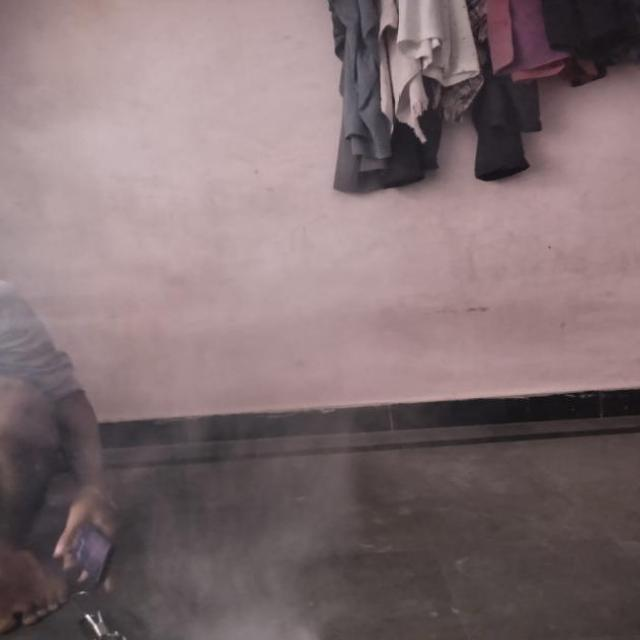fire: (128, 253, 414, 640)
